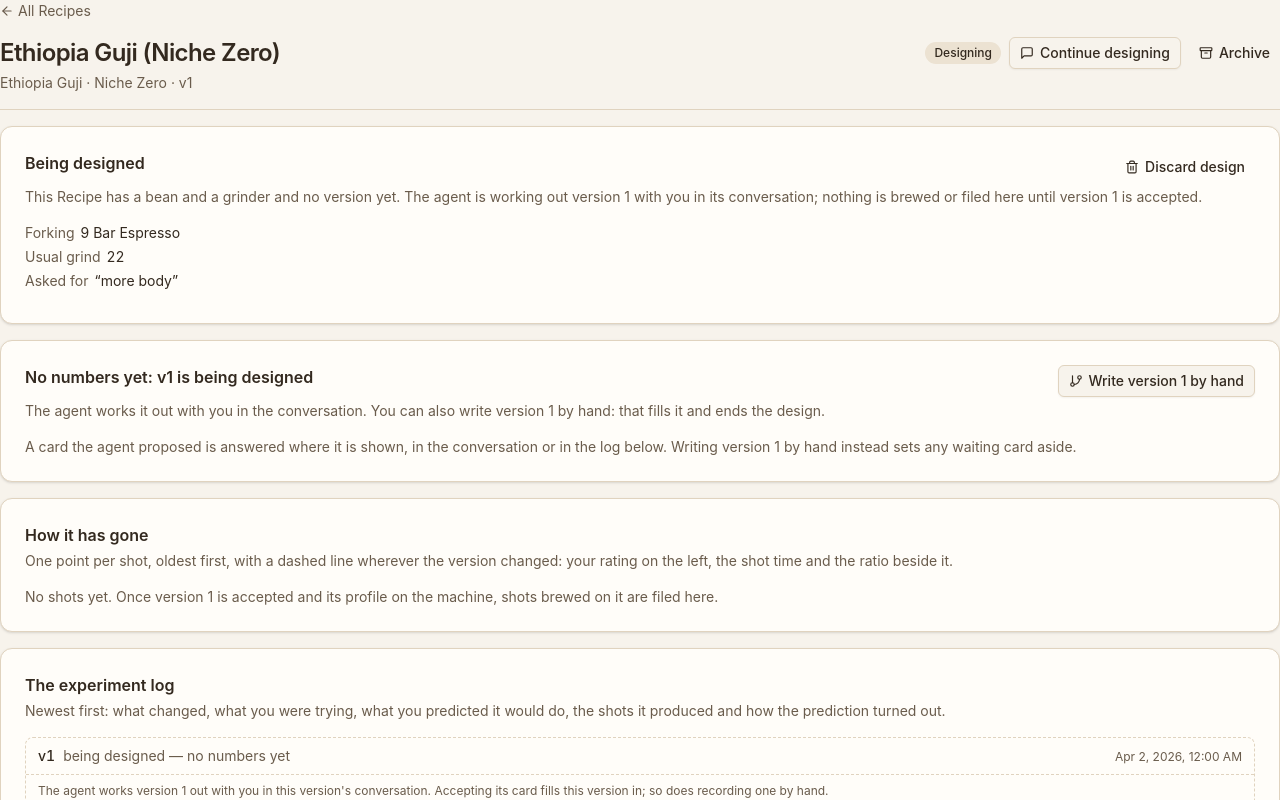
Scenario: RecipeDetailPage, a Recipe being designed › discards only once confirmed, then goes to the Recipes list
Click the button with test id "discard-design" at (1185, 167), box [1115,151,1255,183]
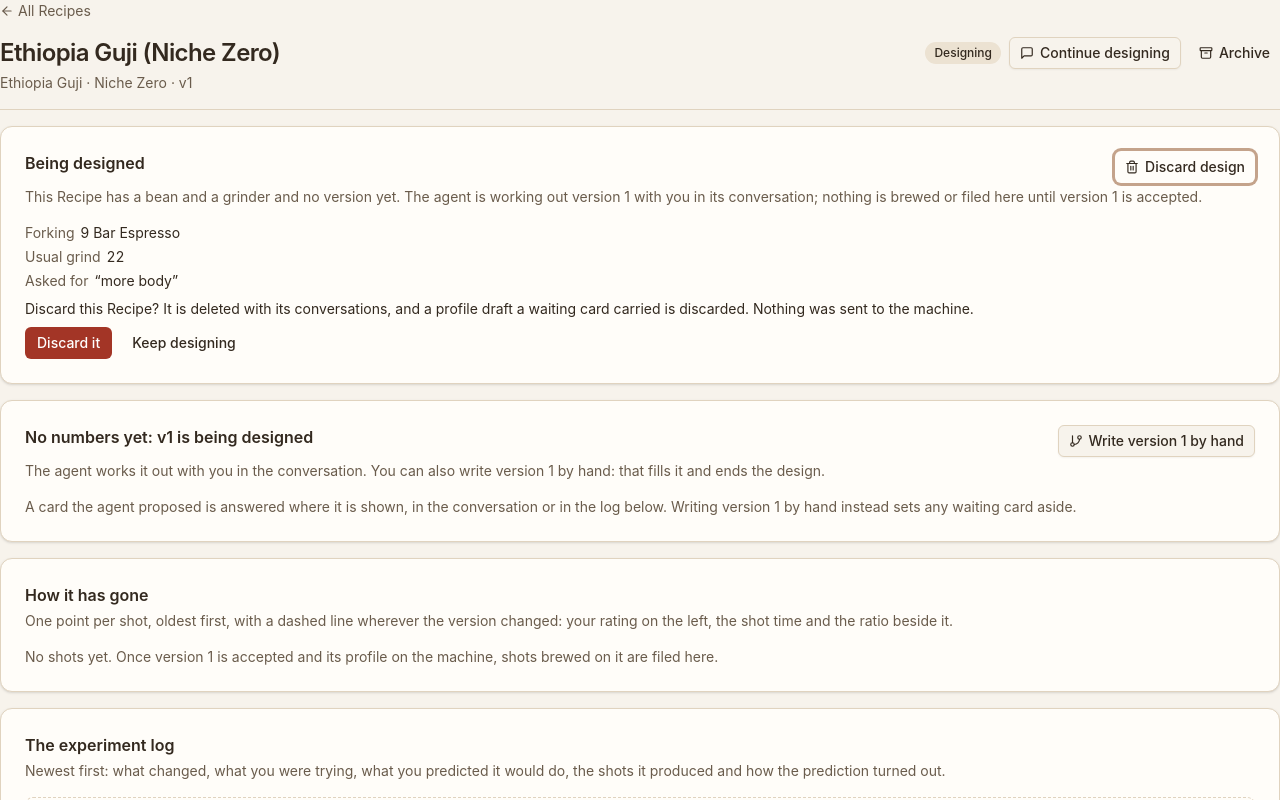
// Changing one's mind declines nothing.
Click the button "Keep designing" at (184, 343), box [120,327,248,359]
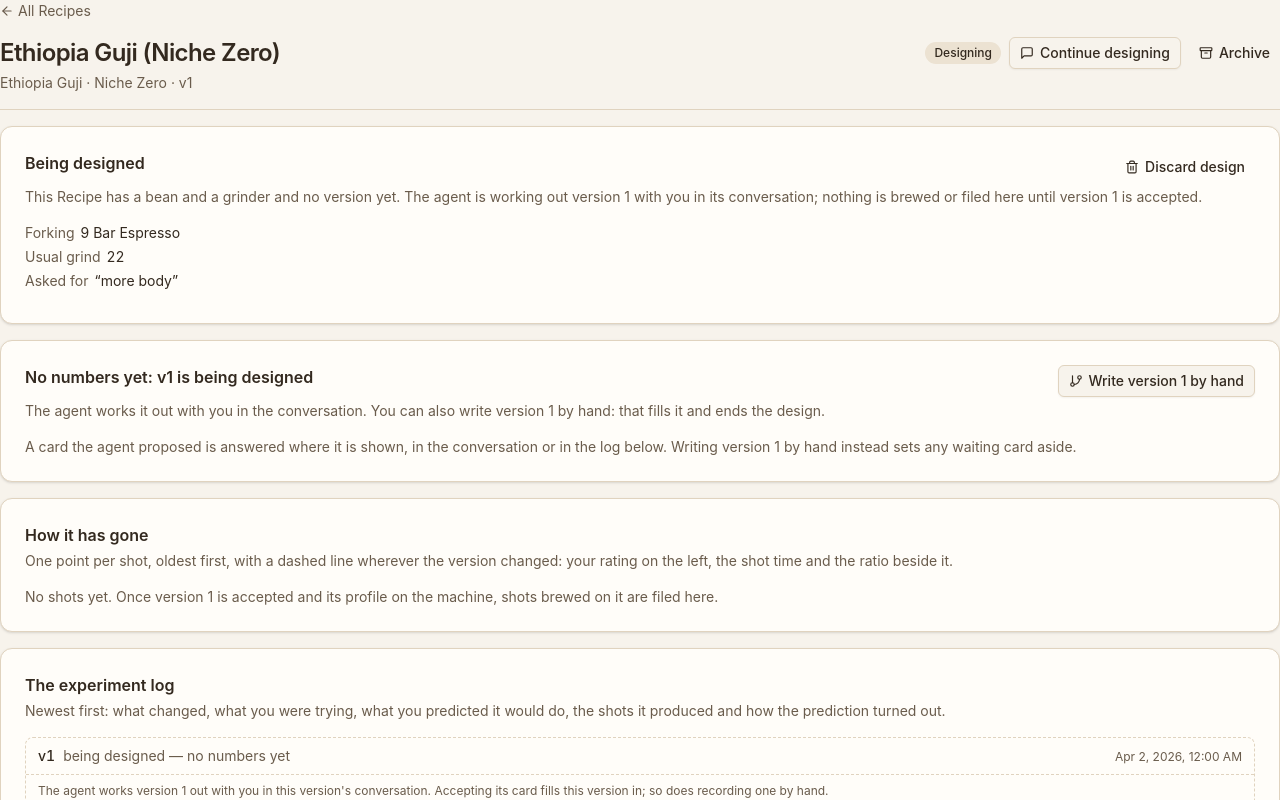
Click the button with test id "discard-design" at (1185, 167), box [1115,151,1255,183]
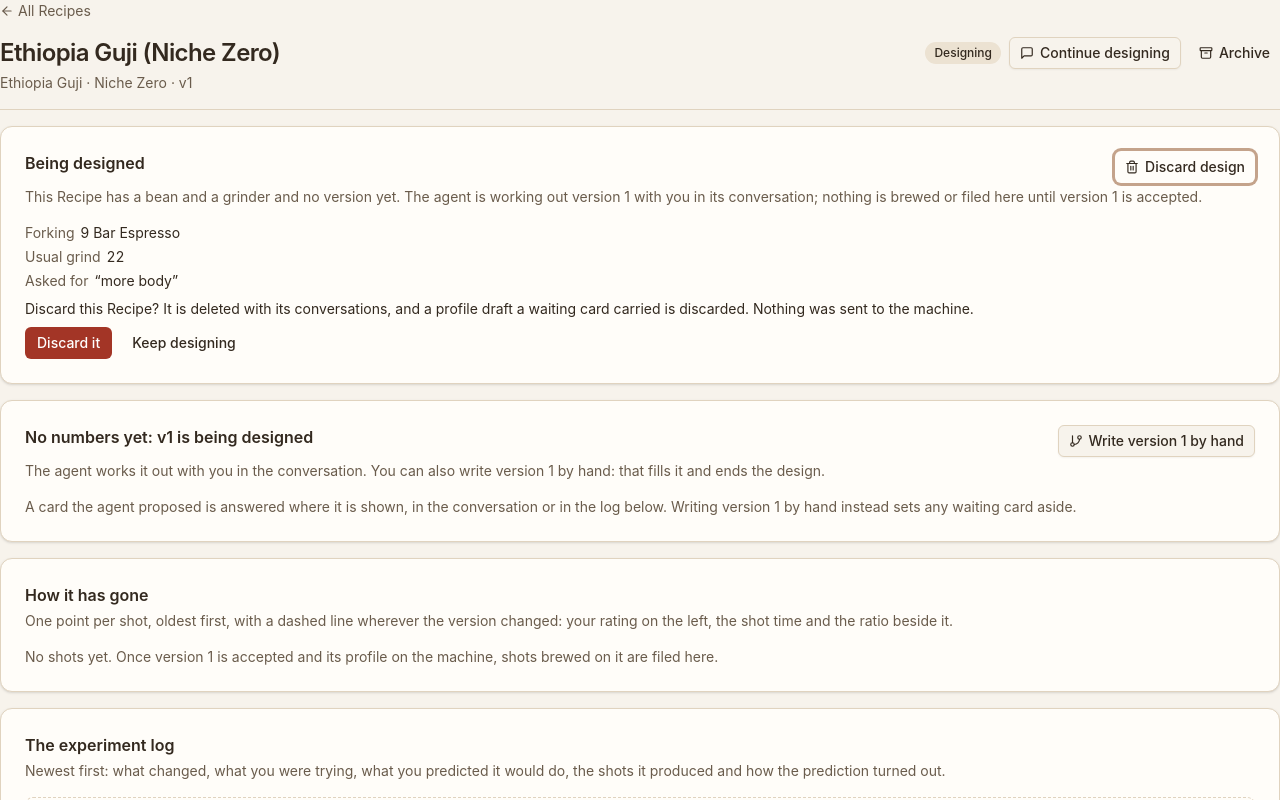
Click the button "Discard it" at (69, 343), box [25,327,112,359]
(page scrolled)
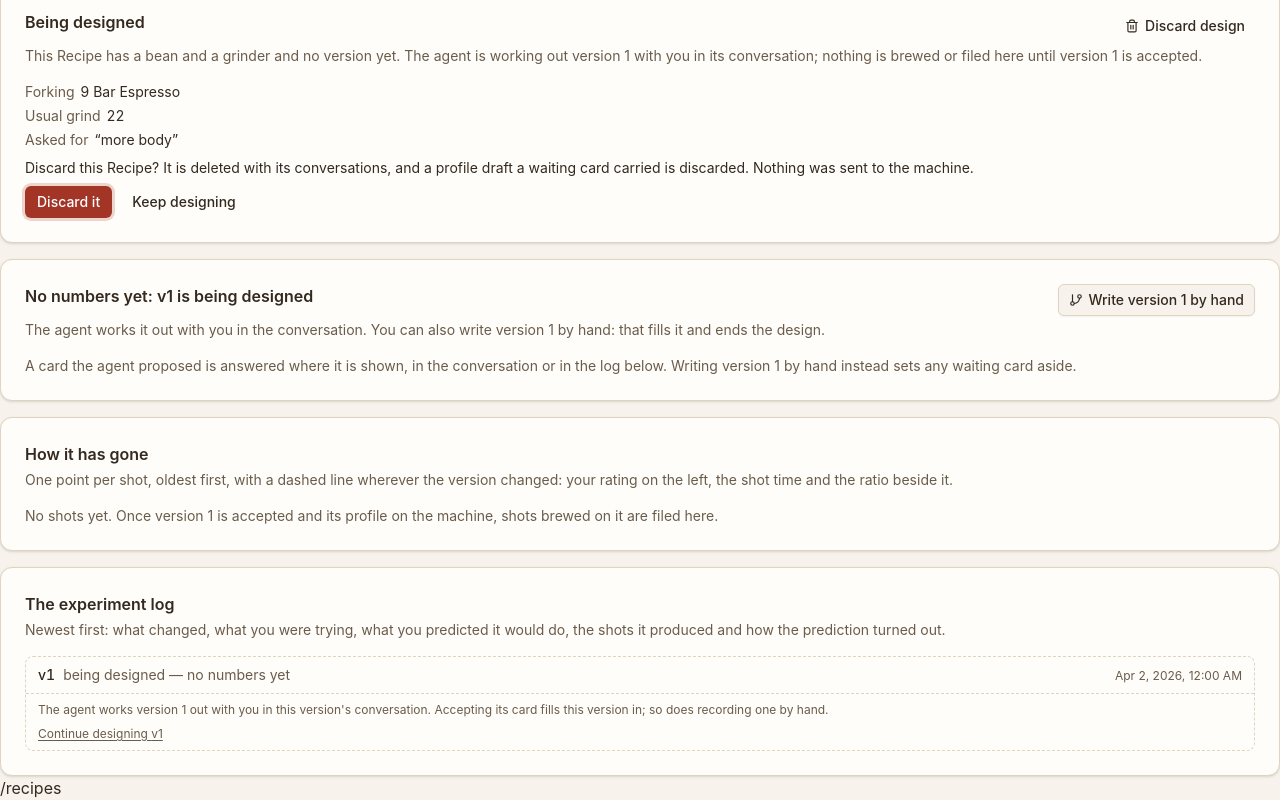
Now the text with test id "location" reads "/recipes", box [0,778,61,798]
